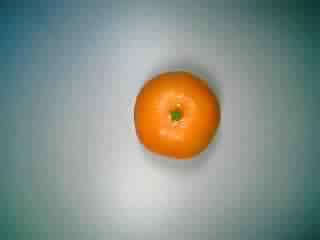orange: (127, 67, 223, 163)
